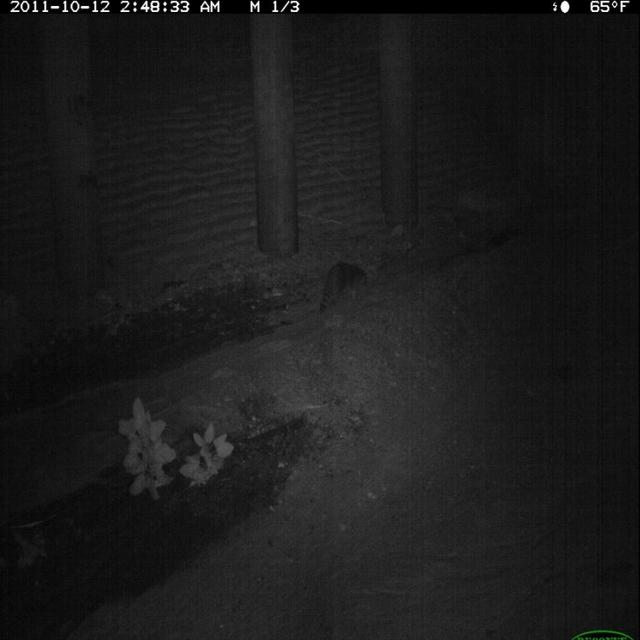raccoon: (316, 258, 372, 318)
